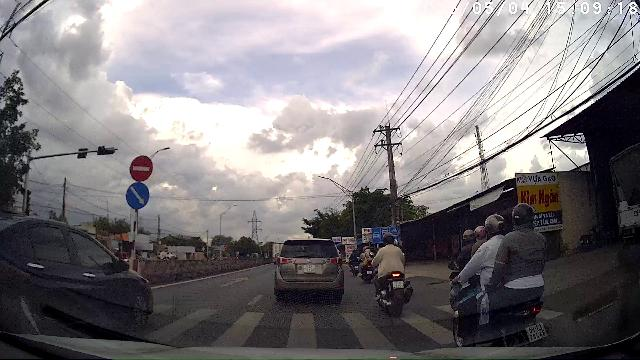102-cam-di-nguoc-chieu: (130, 154, 152, 180)
302a-huong-phai-di-vong-chuong-ngai-vat-1: (126, 182, 150, 210)
